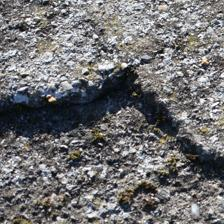Crack: (27, 90, 153, 160), (68, 30, 153, 97)
